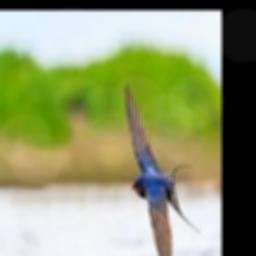Swallow: (125, 80, 201, 256)
